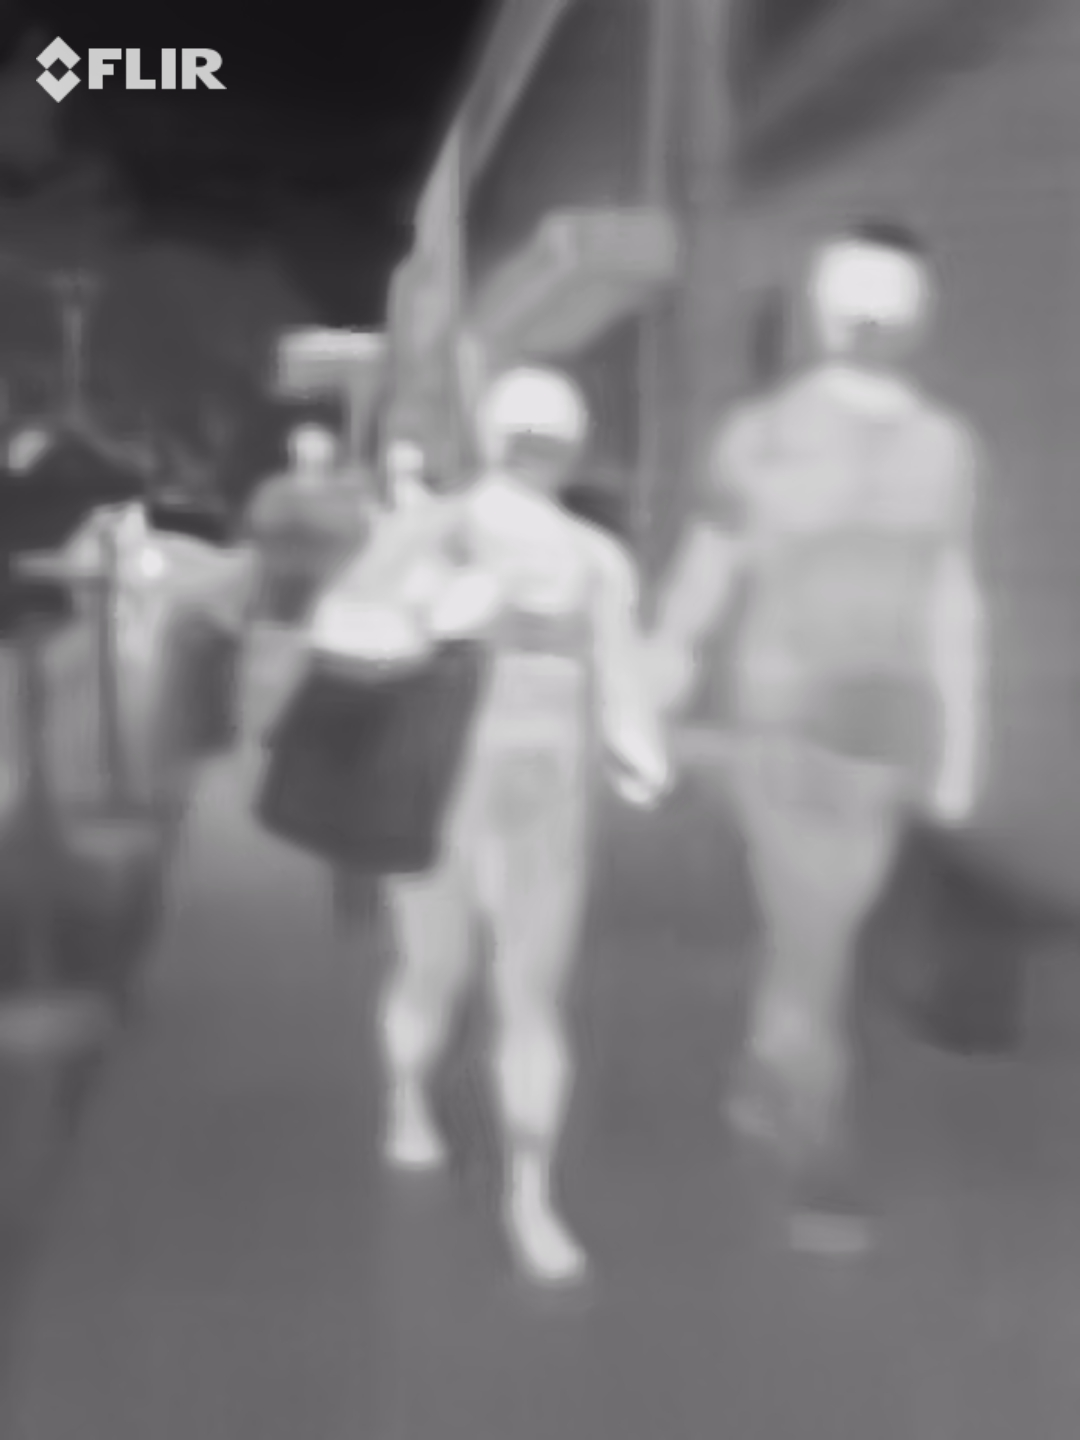head: (807, 222, 944, 380), (476, 363, 592, 494)
